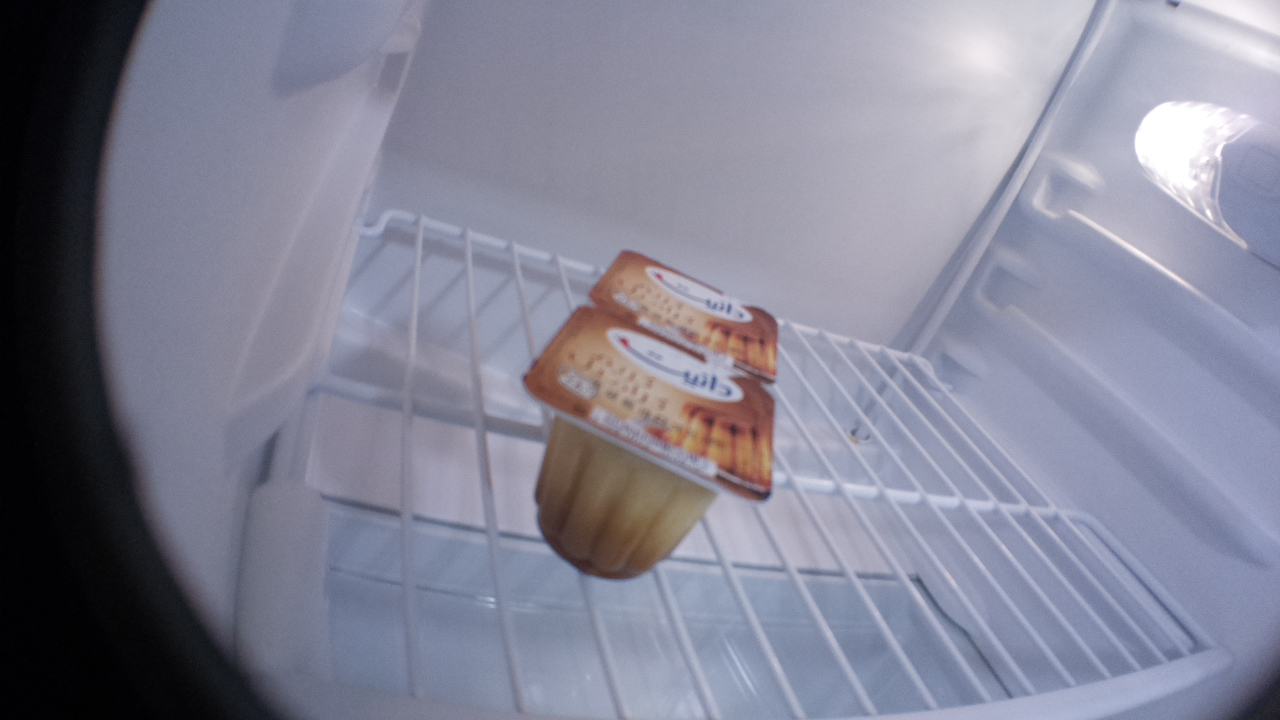caramel: (516, 302, 774, 582), (588, 250, 780, 385)
